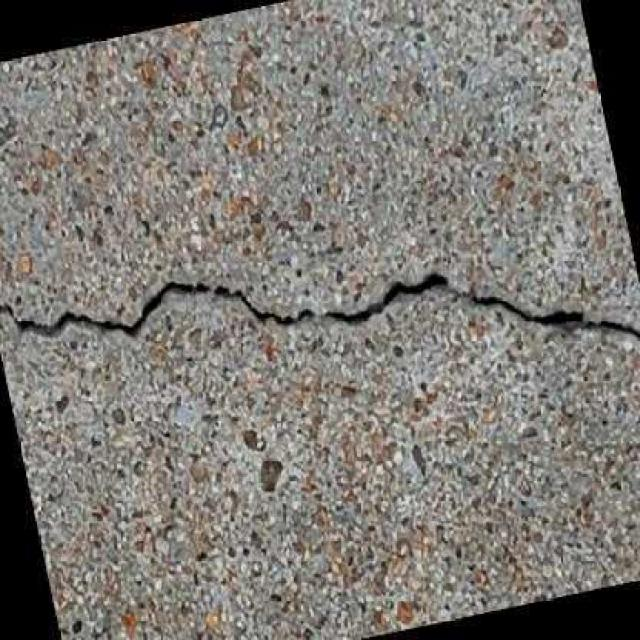D00: (0, 271, 640, 338)
